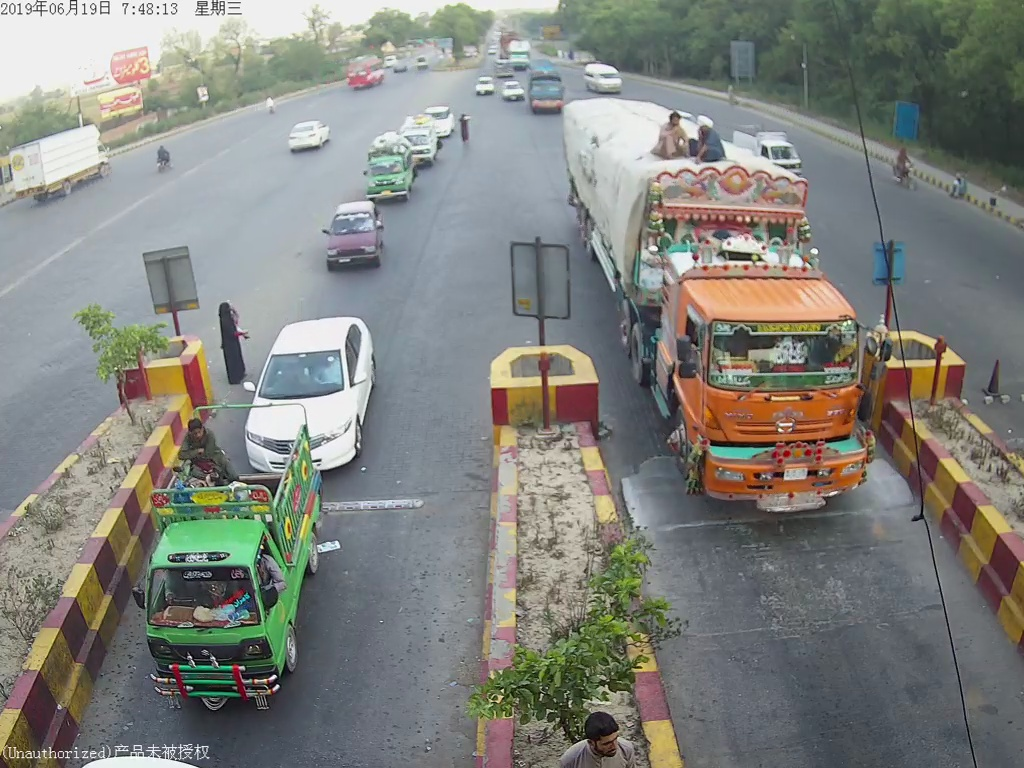Cat-1: (143, 397, 326, 704), (243, 312, 379, 469), (324, 205, 393, 272), (358, 141, 421, 206)
Cat-5: (574, 96, 887, 506)
